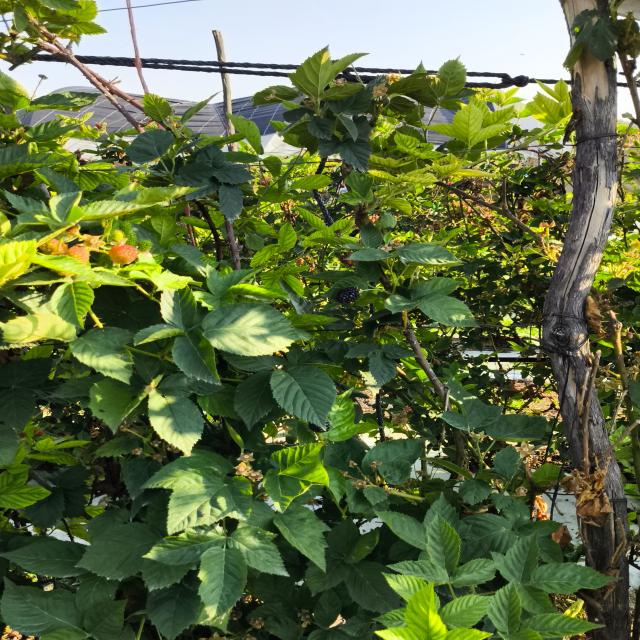maduro: (336, 287, 359, 303), (308, 421, 330, 433)
naranja: (109, 244, 137, 264), (39, 238, 68, 255), (65, 245, 90, 264)
verde: (120, 221, 137, 245), (111, 229, 125, 245), (125, 231, 137, 248), (138, 240, 151, 251)
